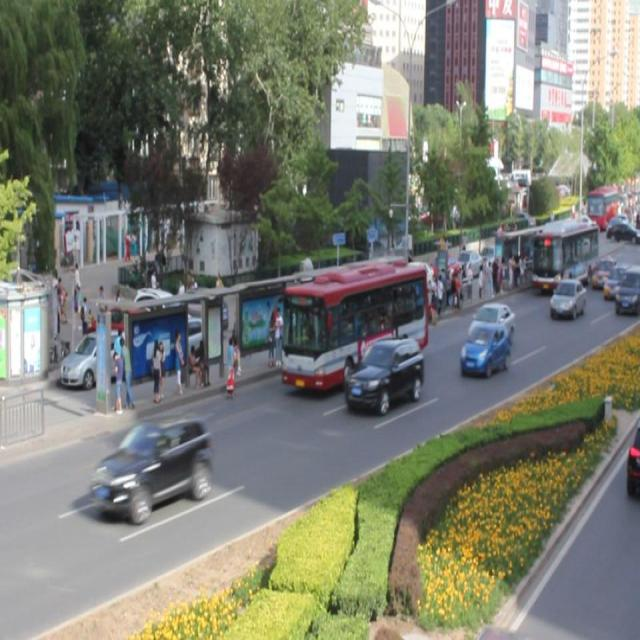car: (92, 416, 212, 519), (345, 337, 422, 412), (459, 323, 508, 377), (468, 303, 512, 349), (548, 278, 584, 319), (602, 264, 632, 299)
truck: (614, 269, 640, 314)
van: (282, 260, 427, 389), (531, 230, 597, 296)
